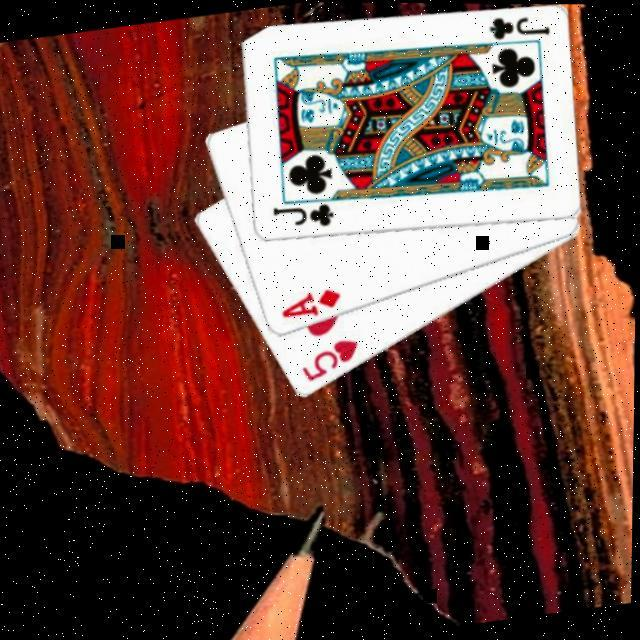5H: (294, 335, 366, 387)
AD: (275, 285, 345, 325)
JC: (268, 198, 338, 238), (483, 8, 552, 46)
